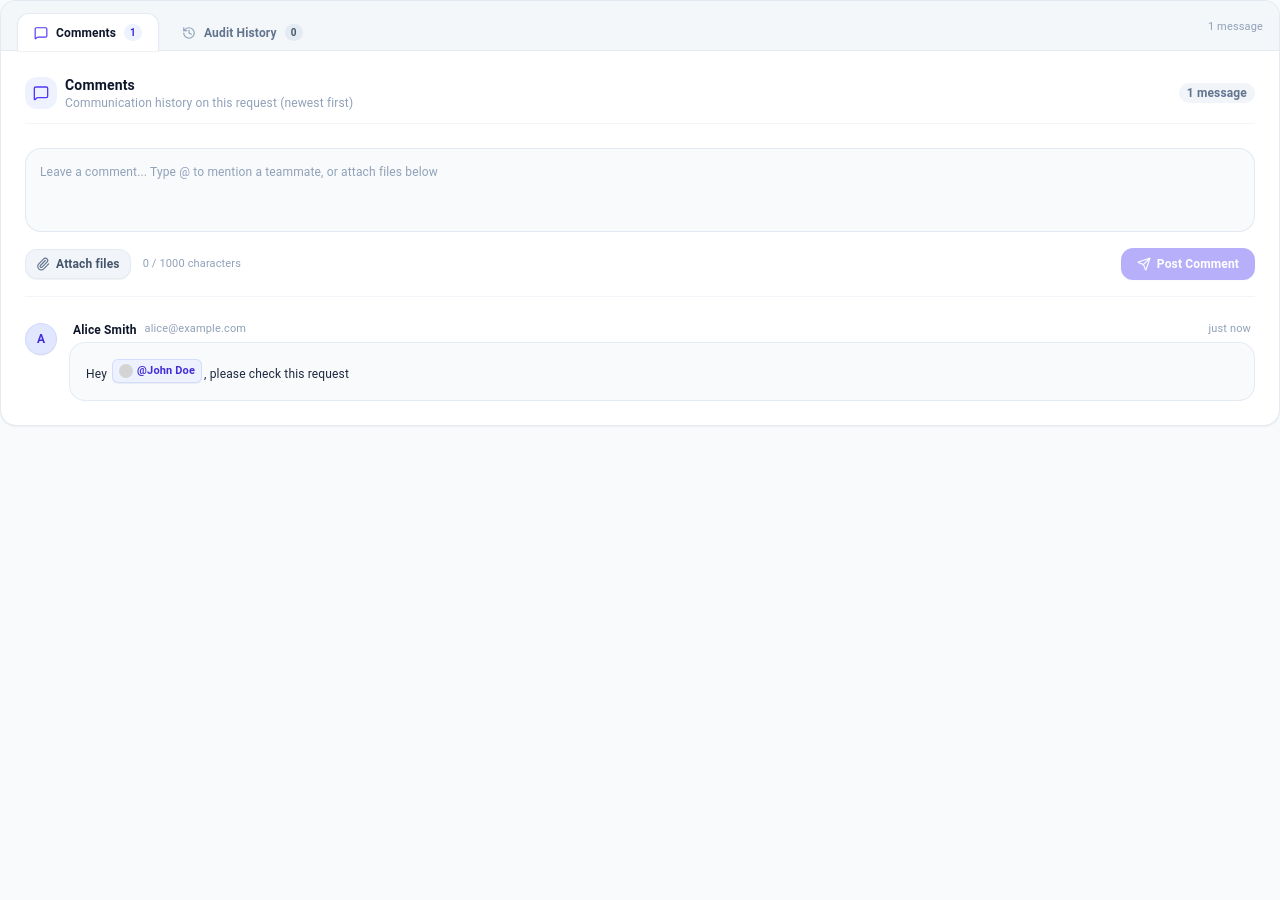
TicketCommentsSection › renders mention badge with profile picture, displays hover card with details, and opens Teams profile modal with hierarchy graph
Note: Hover over badge to trigger hover card
Hover over the element showing "@John Doe".
mouse_move(157, 371)  # box [112,359,202,383]
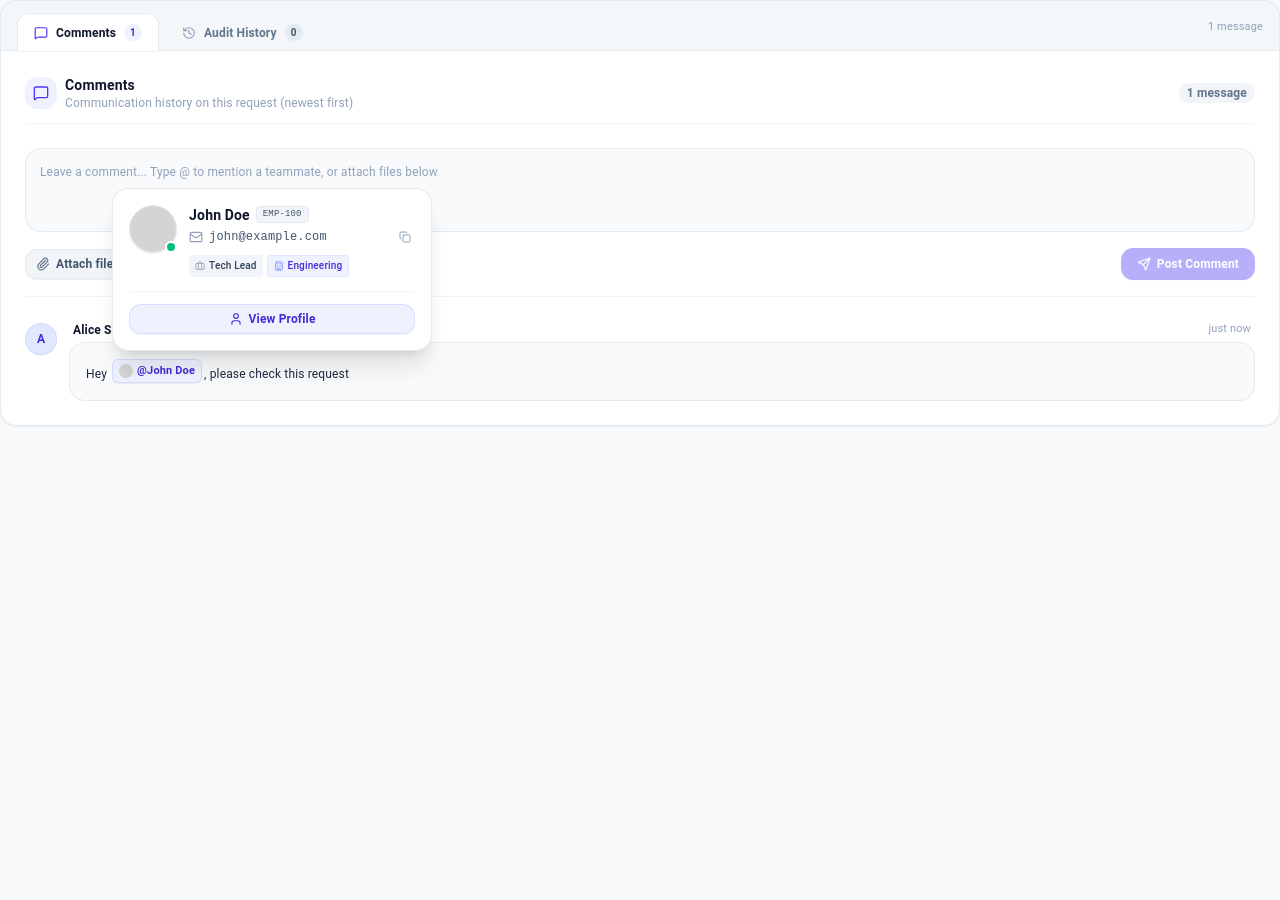
Result: the dialog named "user information for John Doe" is shown at [112,188,432,351]
Result: the text "john@example.com" is shown at [209,229,327,245]
Result: the text "Tech Lead" is shown at [209,258,257,274]
Note: Clicking View Profile button opens the Microsoft Teams-style profile modal
Click the button with test id "view-profile-btn".
click(272, 319)  # box [129,304,415,334]
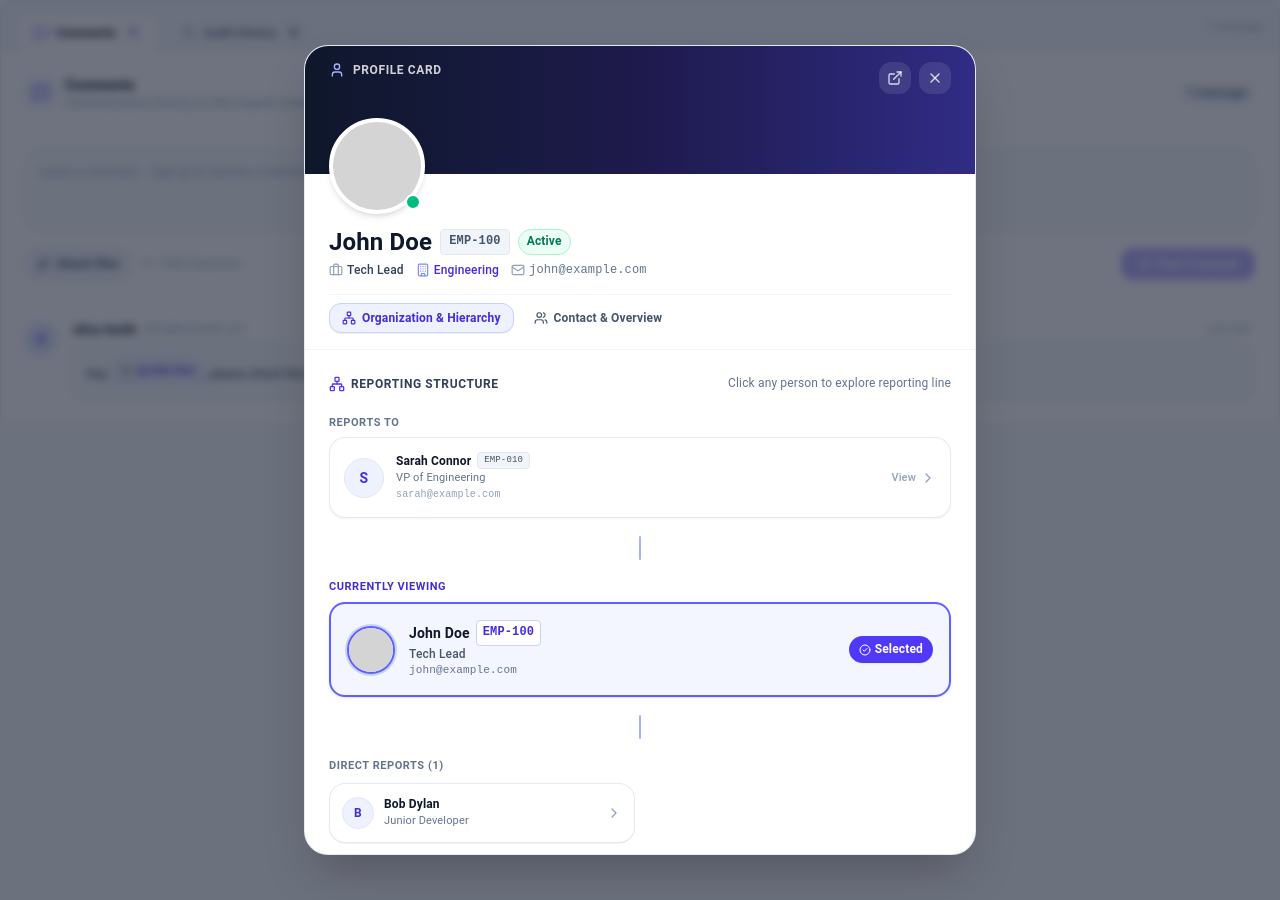
Result: the element with test id "teams-profile-modal" is shown at [304,45,976,855]
Result: the element with test id "hierarchy-graph-section" is shown at [329,374,951,843]
Result: the text "Sarah Connor" is shown at [396,453,471,469]
Note: Close button dismisses the modal
Click the button with test id "profile-modal-close-btn".
click(935, 78)  # box [919,62,951,94]
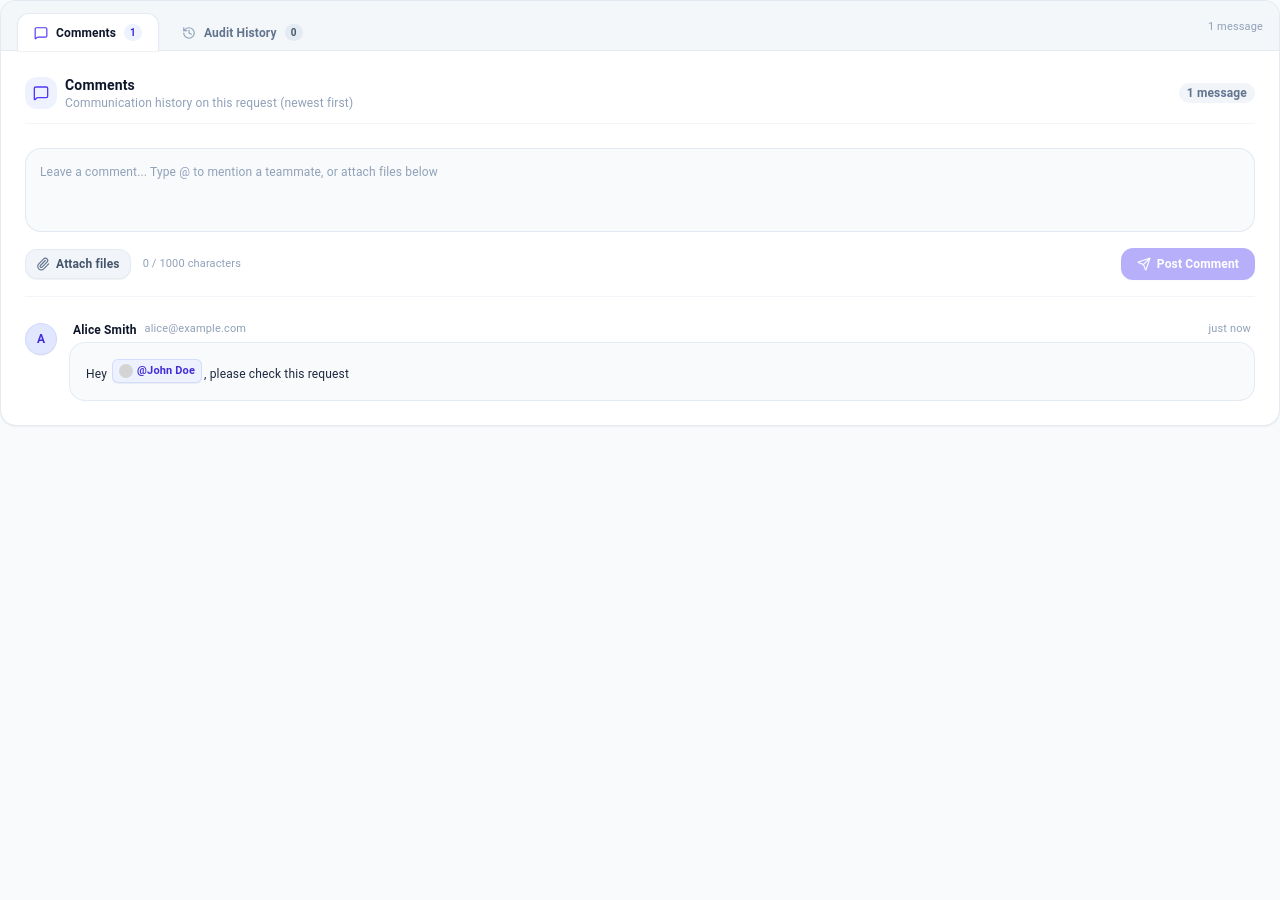
Result: the element with test id "teams-profile-modal" is gone
